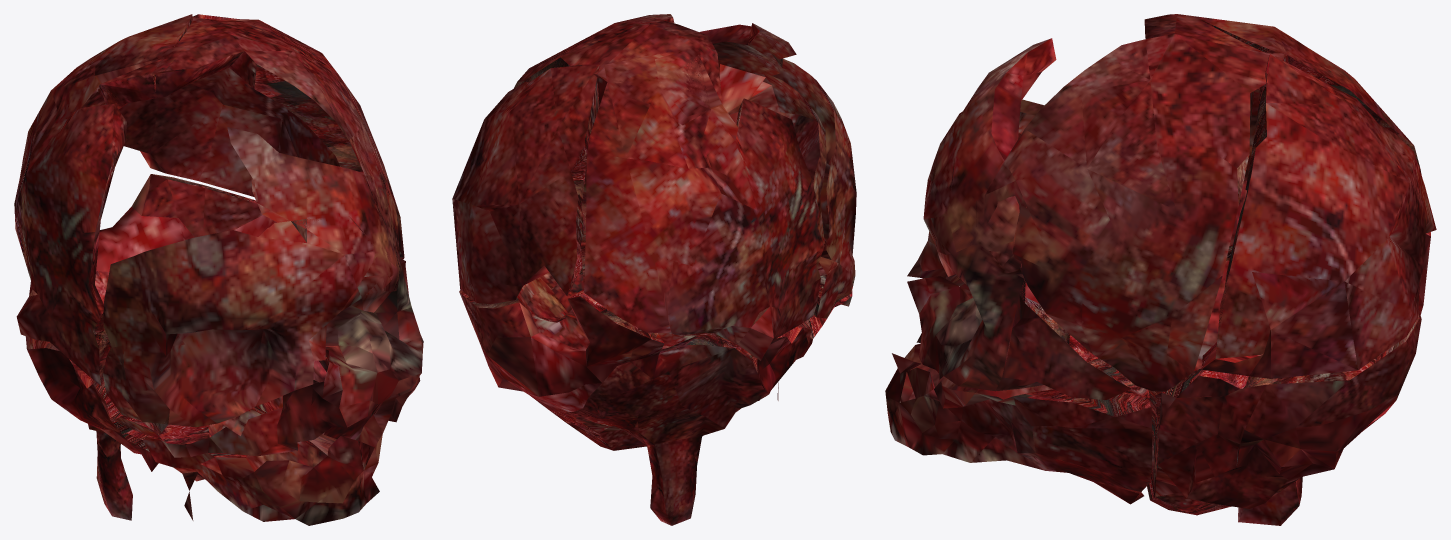
Rendered from gore_skull_pieces.glb.
3 renders of one model, left to right at view 1: azimuth 30°, elevation 25°; view 2: azimuth 150°, elevation 25°; view 3: azimuth 270°, elevation 25°, orthographic. The views are drawn at different scales.
Visible parts, largest first — view 1: Object_7_cell.004, Object_7_cell.003, Object_7_cell.001, Object_7_cell.007, Object_7_cell.005, Object_7_cell, Object_7_cell.002; view 2: Object_7_cell.001, Object_7_cell.005, Object_7_cell.002, Object_7_cell.004, Object_7_cell.007, Object_7_cell.003; view 3: Object_7_cell.007, Object_7_cell.002, Object_7_cell.003, Object_7_cell.005, Object_7_cell, Object_7_cell.001, Object_7_cell.004.
Part boxes in pixels (box(x1,y1,x2,y2)): Object_7_cell.004: box(103, 216, 396, 435); Object_7_cell.003: box(113, 127, 423, 457); Object_7_cell.001: box(14, 14, 192, 385); Object_7_cell.007: box(95, 16, 404, 259); Object_7_cell.005: box(25, 174, 329, 520); Object_7_cell: box(126, 352, 420, 525); Object_7_cell.002: box(119, 14, 340, 196); Object_7_cell.001: box(581, 51, 824, 360); Object_7_cell.005: box(459, 272, 811, 525); Object_7_cell.002: box(452, 64, 600, 304); Object_7_cell.004: box(728, 53, 856, 318); Object_7_cell.007: box(514, 14, 721, 116); Object_7_cell.003: box(583, 23, 852, 339); Object_7_cell.007: box(984, 14, 1295, 391); Object_7_cell.002: box(1201, 54, 1436, 378); Object_7_cell.003: box(907, 38, 1149, 399); Object_7_cell.005: box(1147, 232, 1430, 525); Object_7_cell: box(885, 343, 1152, 504); Object_7_cell.001: box(1201, 20, 1421, 260); Object_7_cell.004: box(907, 99, 1043, 285).
Size of the model in its own units: 0.1141 by 0.1655 by 0.1573.
Materials: 1 (1 with a texture image).
